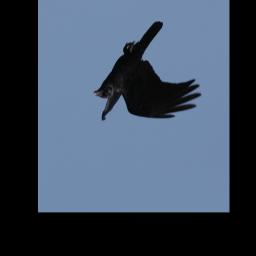Crow: (84, 10, 204, 147)
